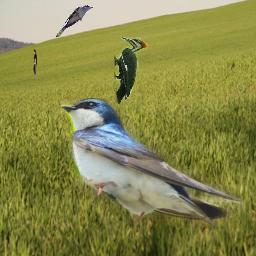Cuckoo: (56, 5, 94, 37)
Swallow: (61, 98, 244, 235)
Woodpecker: (114, 37, 148, 104)
